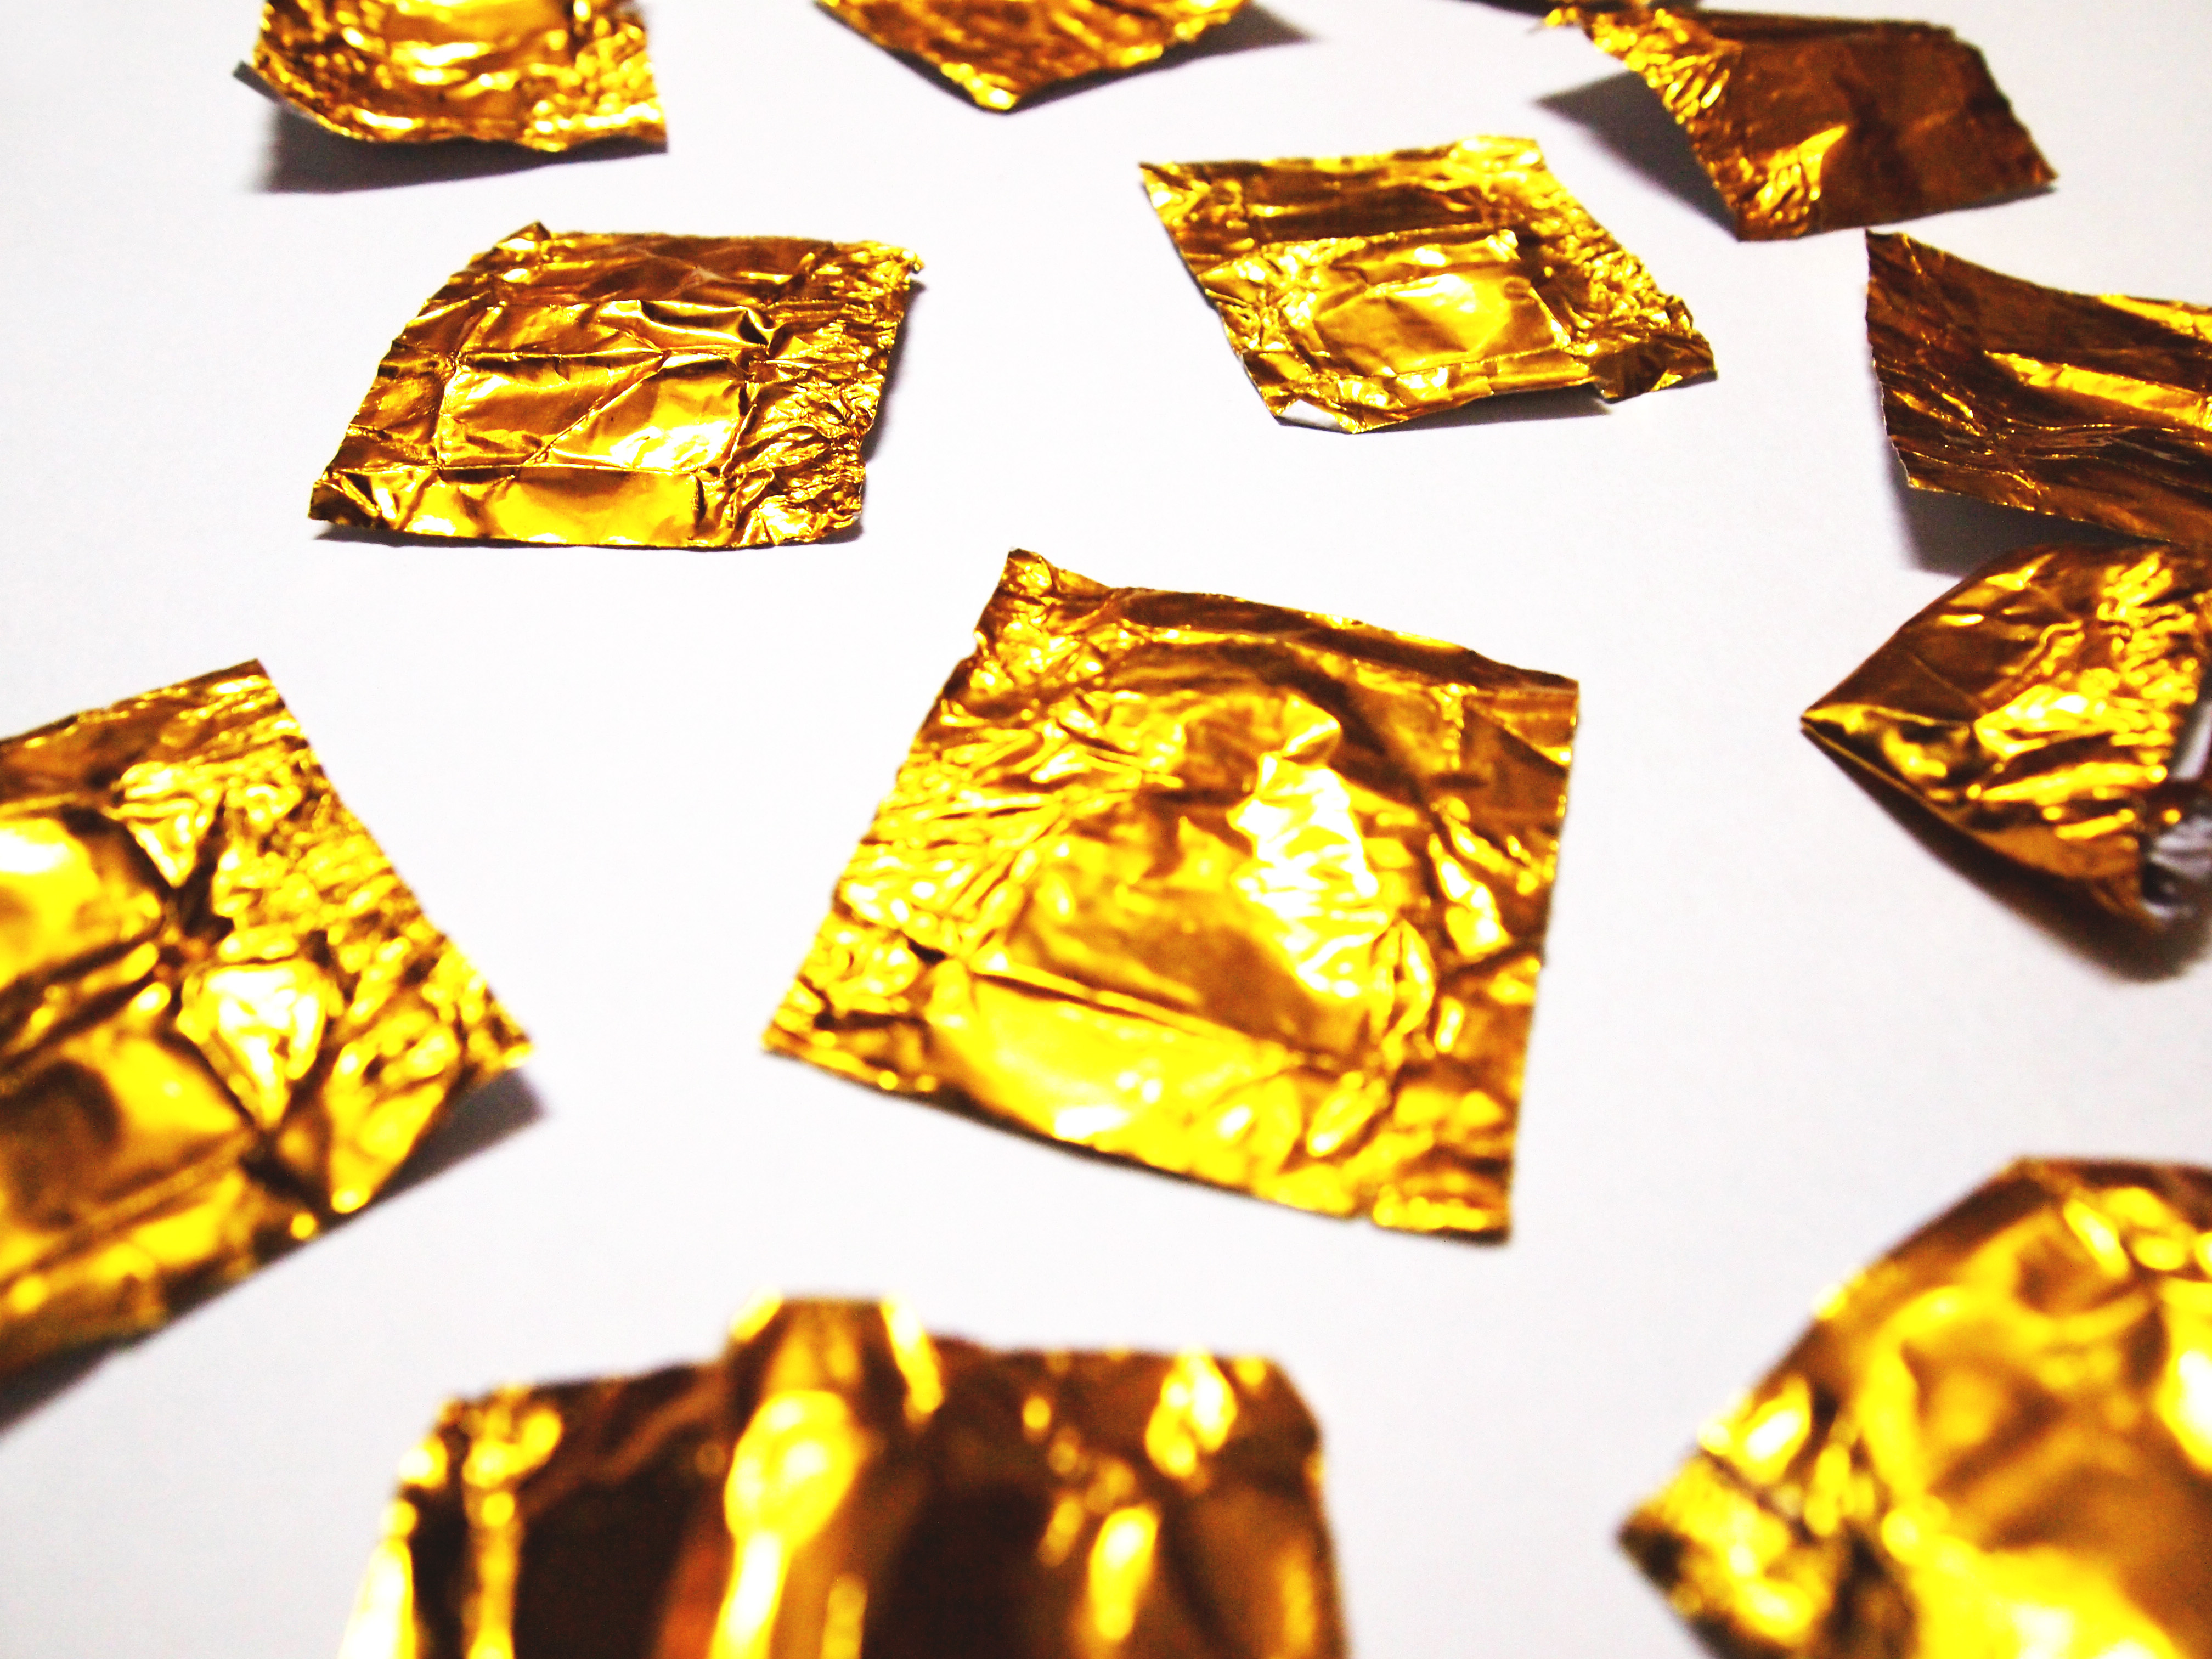Nonrec_Plastic: (740, 579, 1649, 1201), (256, 1328, 1406, 1649), (0, 671, 620, 1225), (1561, 1103, 2179, 1638), (237, 185, 986, 591), (1132, 119, 1737, 460)
